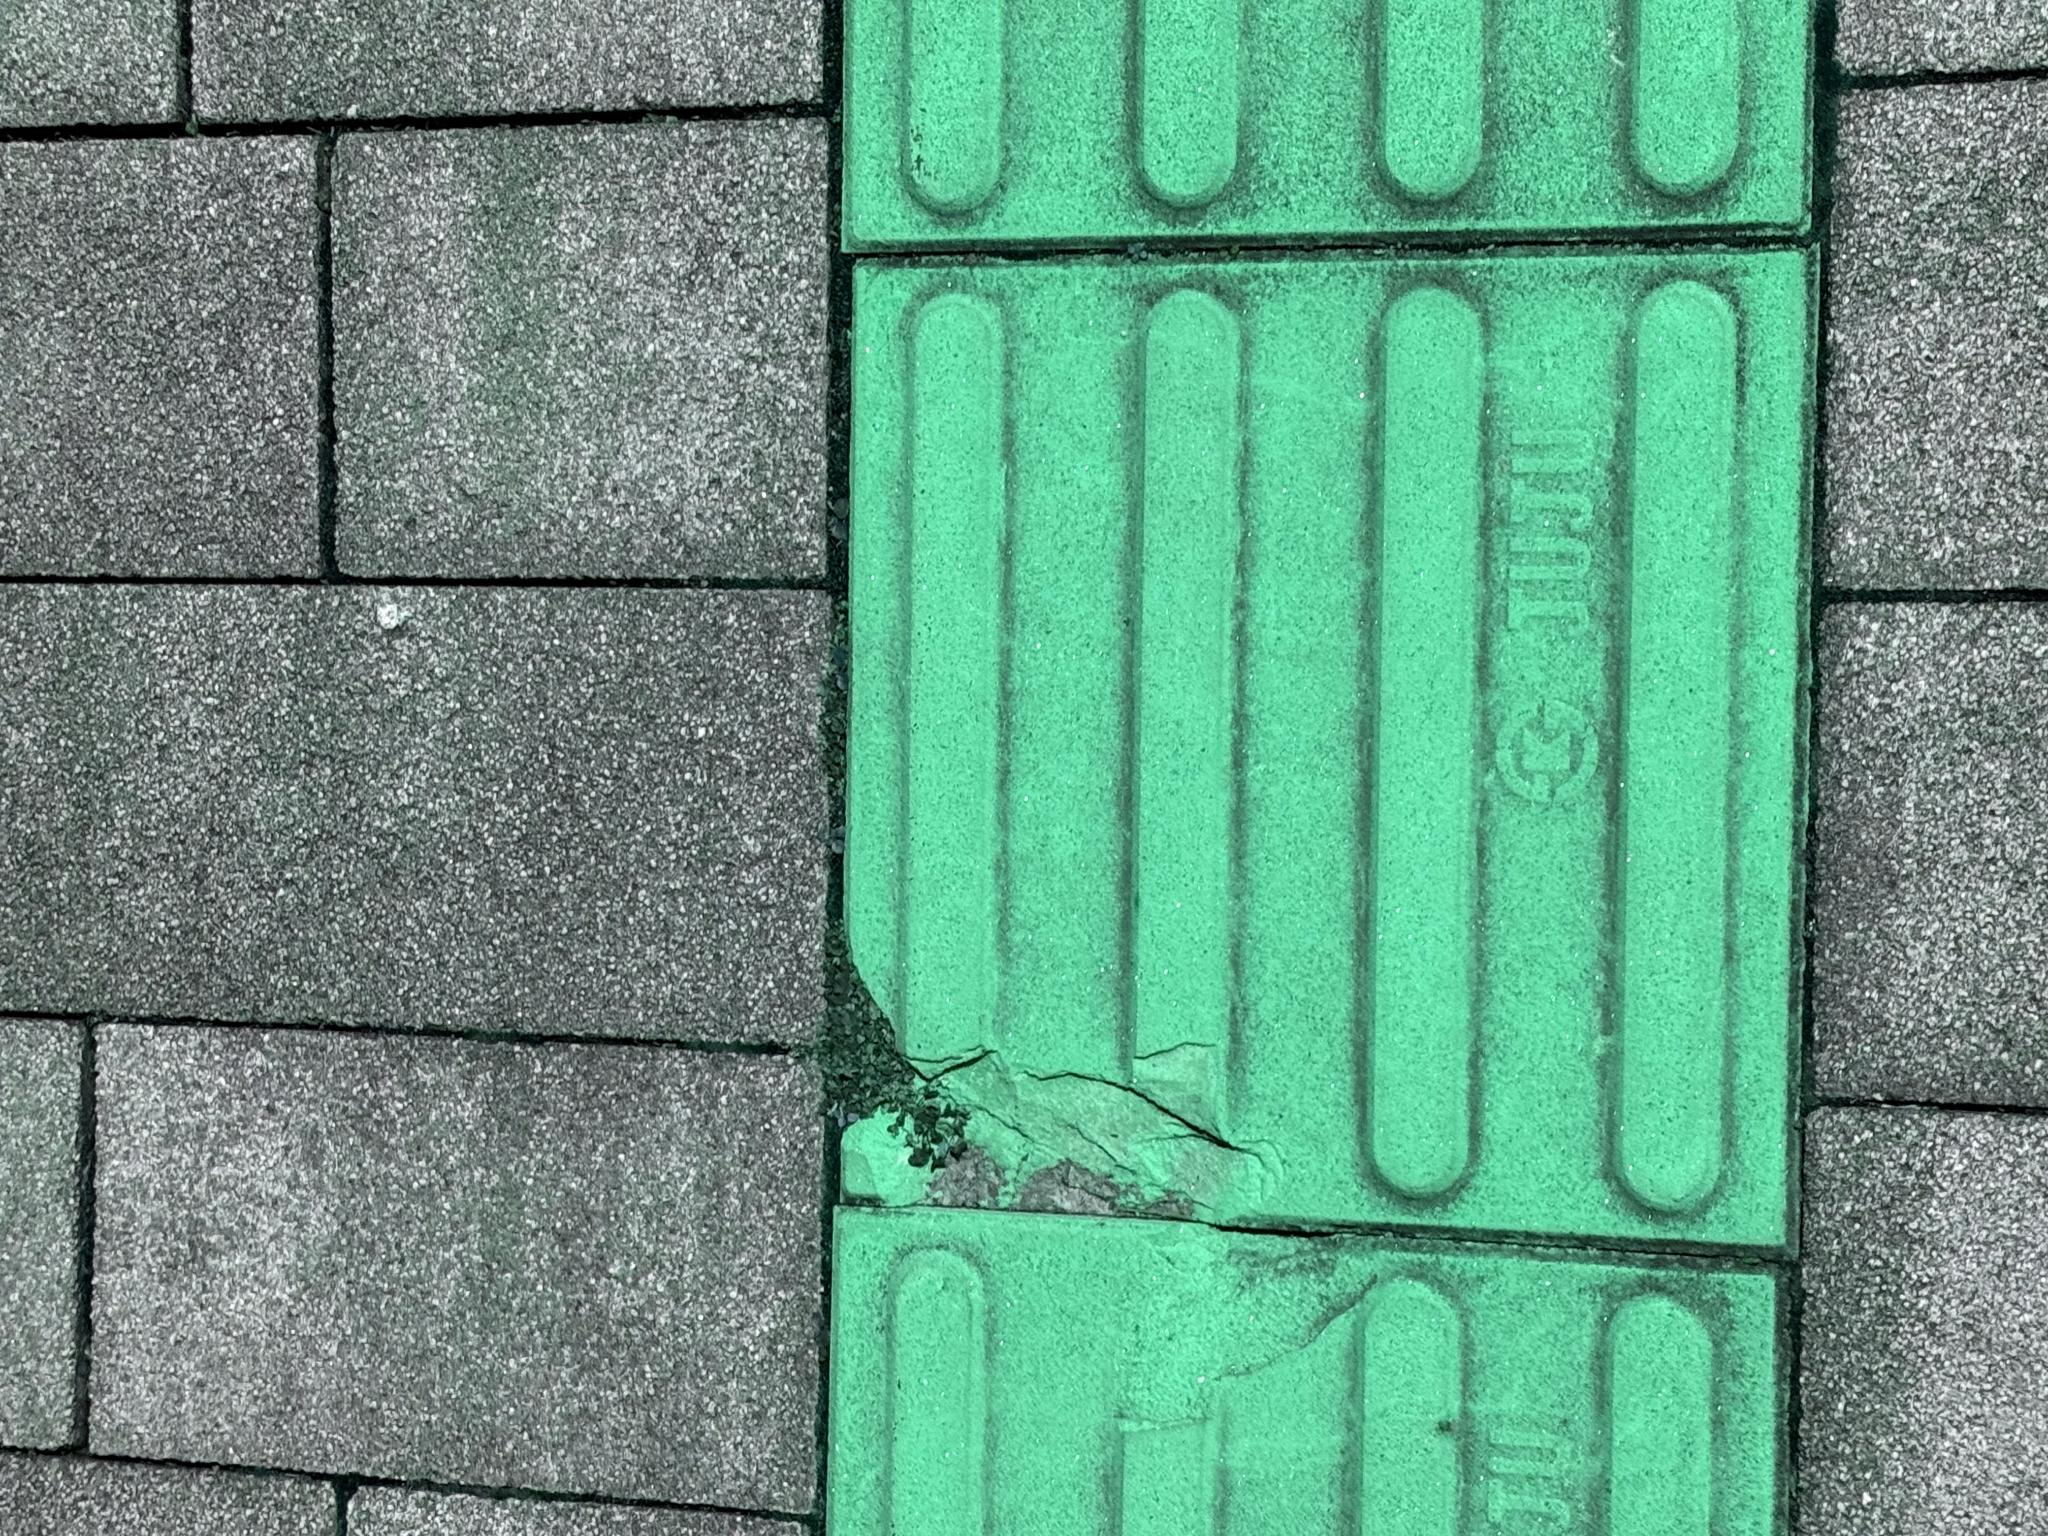Straight block broken: (302, 839, 1280, 1536)
